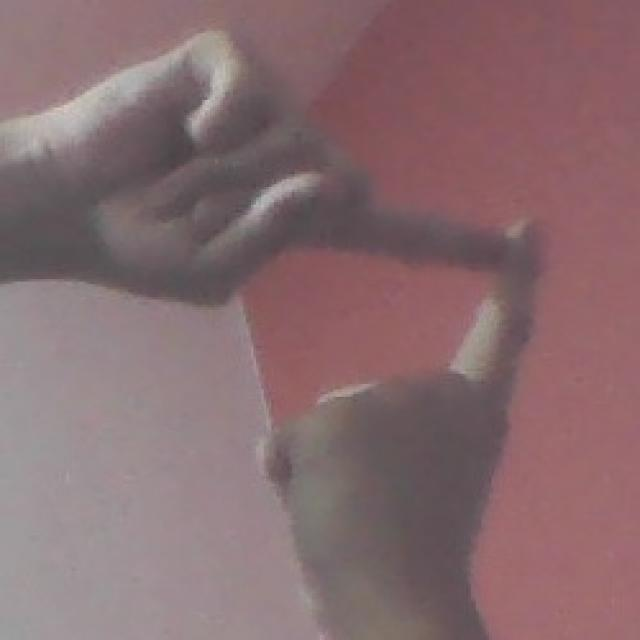Alphabet-E: (73, 17, 549, 601)
